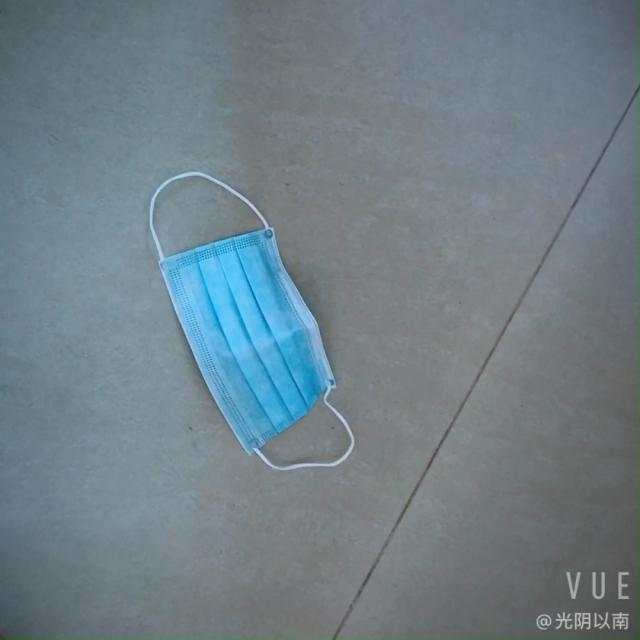face mask: (148, 206, 330, 465)
